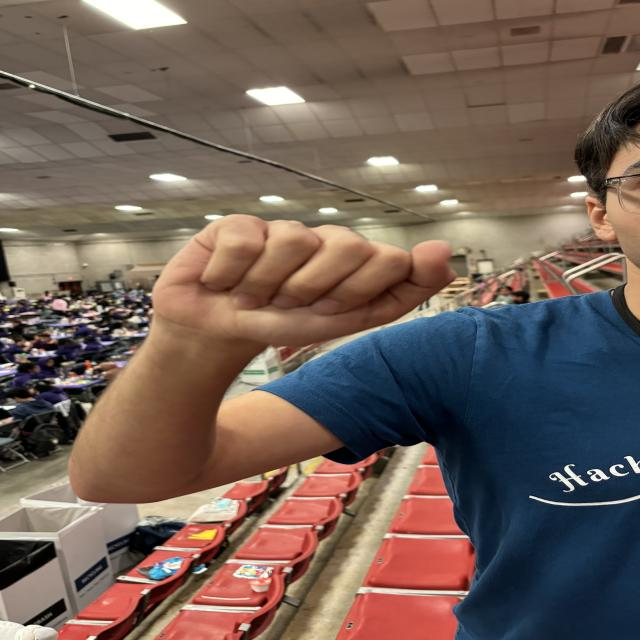A: (152, 212, 468, 352)
